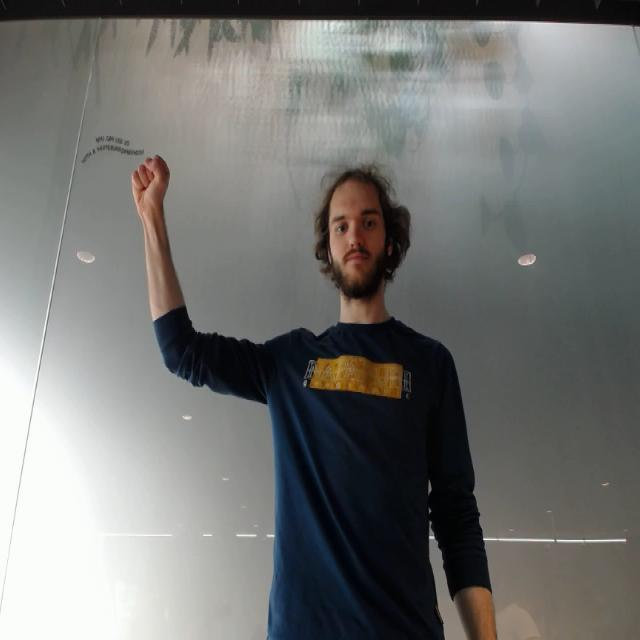stop: (130, 153, 174, 222)
